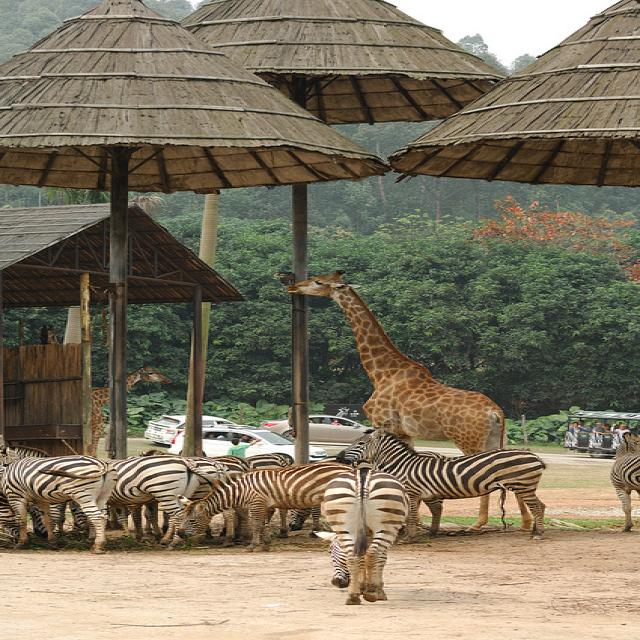Vehicle: (169, 424, 327, 463), (258, 414, 374, 444), (142, 414, 233, 448)
